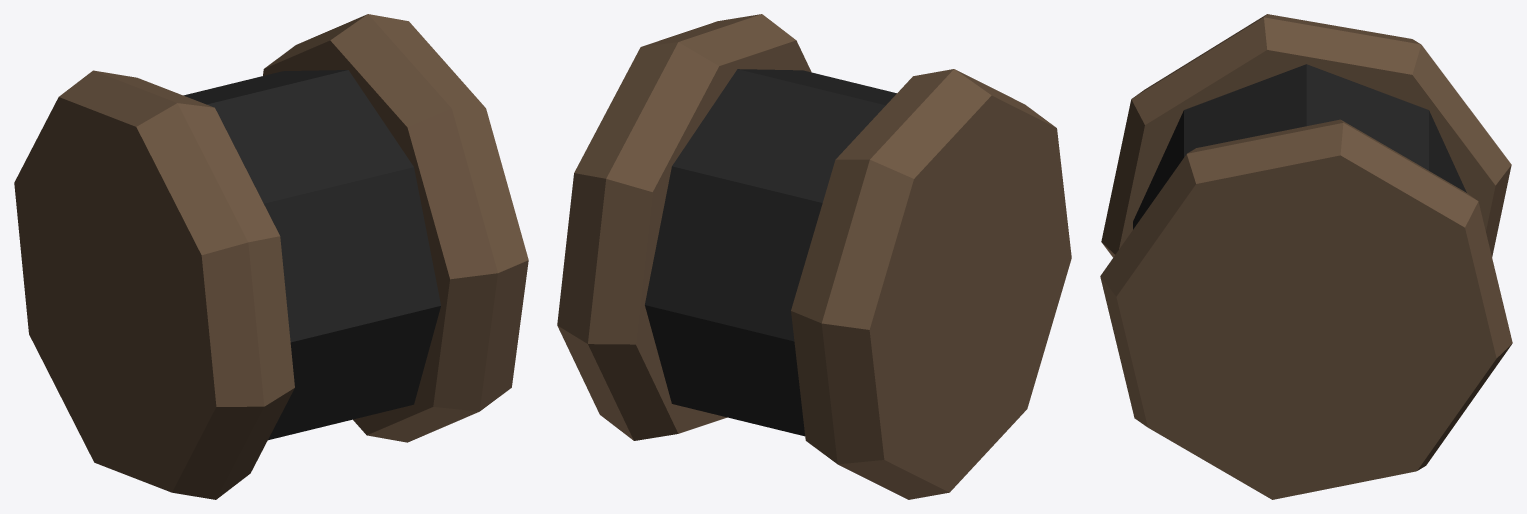
Rendered from Tribal_Plains_Post_Column_Wrap_Rope_01.fbx.
3 renders of one model, left to right at view 1: azimuth 30°, elevation 25°; view 2: azimuth 150°, elevation 25°; view 3: azimuth 270°, elevation 25°, orthographic. The views are drawn at different scales.
Visible parts, largest first — view 1: Tribal_Plains_Post_Column_Wrap_Rope_01; view 2: Tribal_Plains_Post_Column_Wrap_Rope_01; view 3: Tribal_Plains_Post_Column_Wrap_Rope_01.
Boxes of the visible parts, x1,y1,x2,y2 form: Tribal_Plains_Post_Column_Wrap_Rope_01: (14,14,528,499); Tribal_Plains_Post_Column_Wrap_Rope_01: (557,14,1071,499); Tribal_Plains_Post_Column_Wrap_Rope_01: (1100,14,1512,499).
Size of the model in its own units: 0.6566 by 0.8043 by 0.8043.
